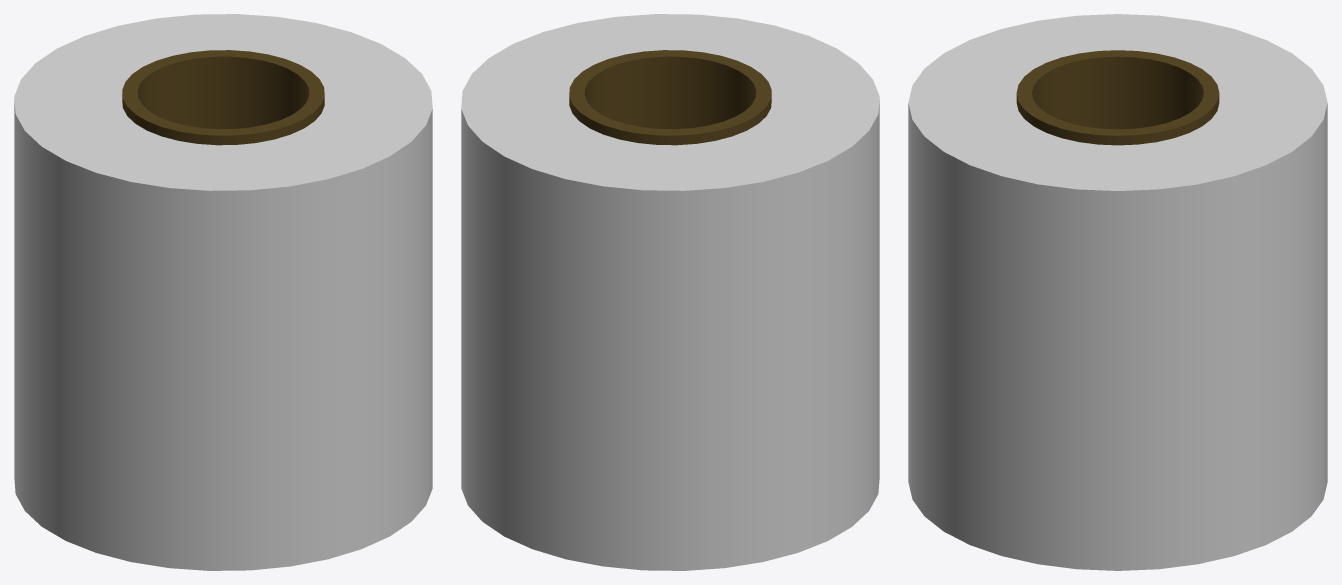
Rendered from TP_Roll.fbx.
3 renders of one model, left to right at view 1: azimuth 30°, elevation 25°; view 2: azimuth 150°, elevation 25°; view 3: azimuth 270°, elevation 25°, orthographic.
Visible parts, largest first — view 1: TP, Cylinder; view 2: TP, Cylinder; view 3: TP, Cylinder.
Part boxes in pixels (x1,y1,x2,y2): TP: [14, 14, 432, 570]; Cylinder: [122, 50, 324, 145]; TP: [461, 14, 879, 570]; Cylinder: [569, 50, 771, 145]; TP: [908, 14, 1327, 570]; Cylinder: [1016, 50, 1219, 145].
Size of the model in its own units: 413 by 434 by 413.
